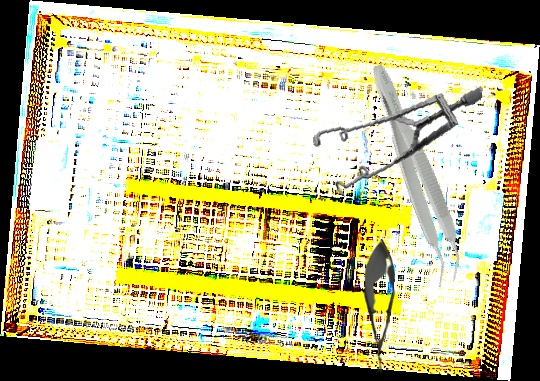Micro Scissor: (363, 239, 397, 373)
Speculum: (305, 64, 484, 214)
Tissue Forceps: (354, 59, 475, 289)
